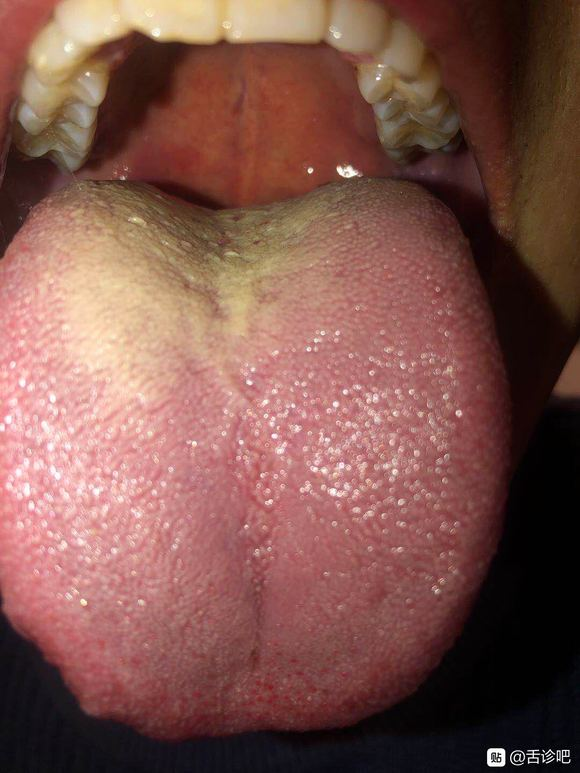hongdianshe: (287, 654, 299, 666)
hongshe: (1, 177, 511, 739)
huangtaishe: (1, 177, 511, 739)
